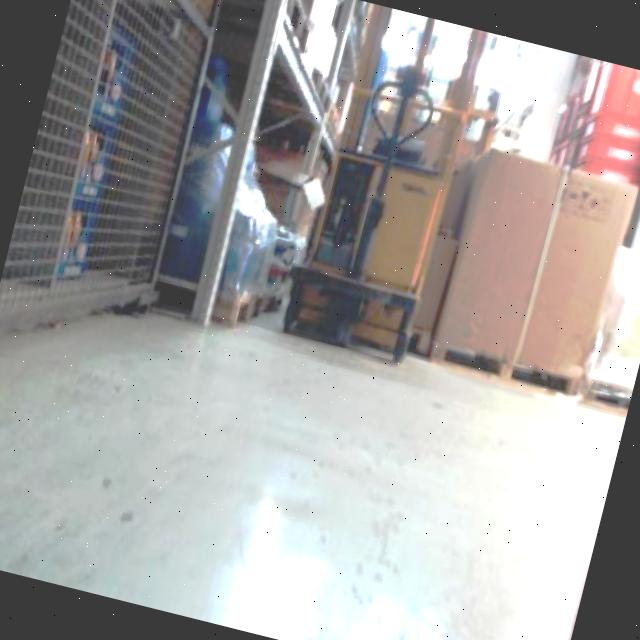ground: (0, 233, 633, 640)
pallet: (205, 0, 640, 410), (274, 0, 508, 370), (143, 0, 381, 344), (424, 139, 640, 401), (277, 138, 456, 364), (226, 0, 380, 262), (556, 302, 640, 640), (562, 405, 628, 640), (276, 258, 423, 363), (545, 54, 640, 200)
